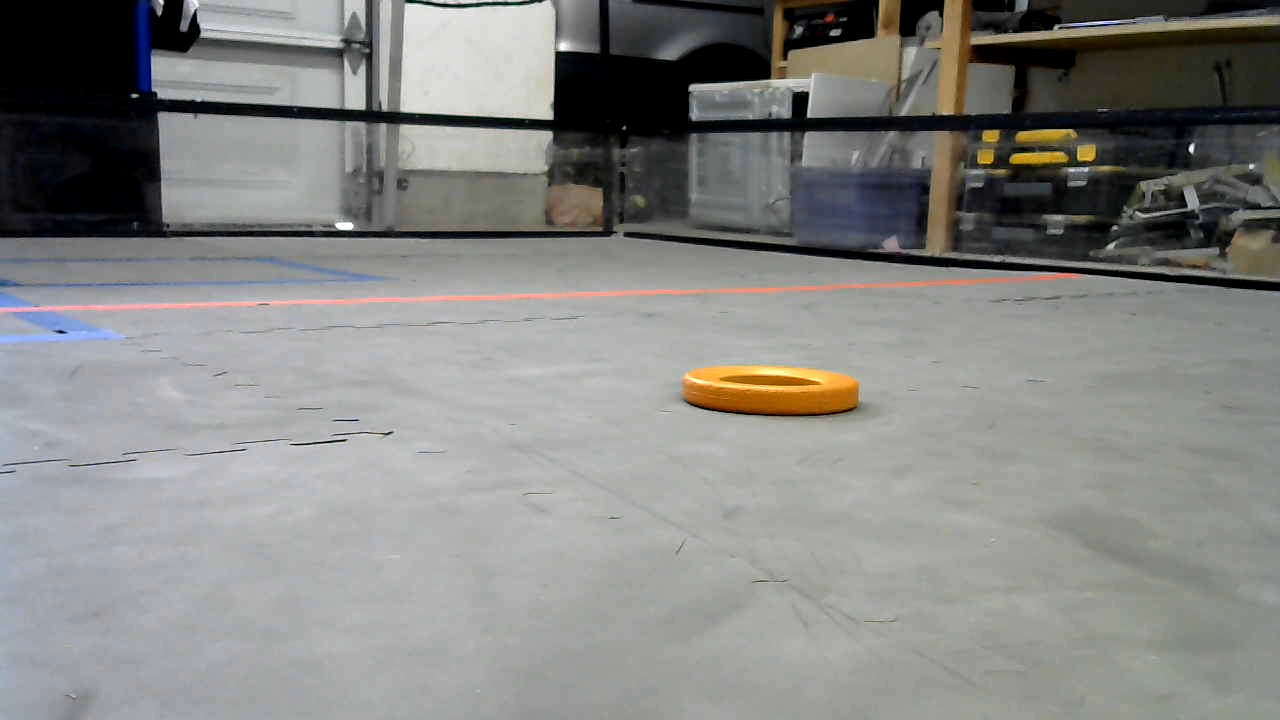OneStack: (684, 363, 858, 415)
